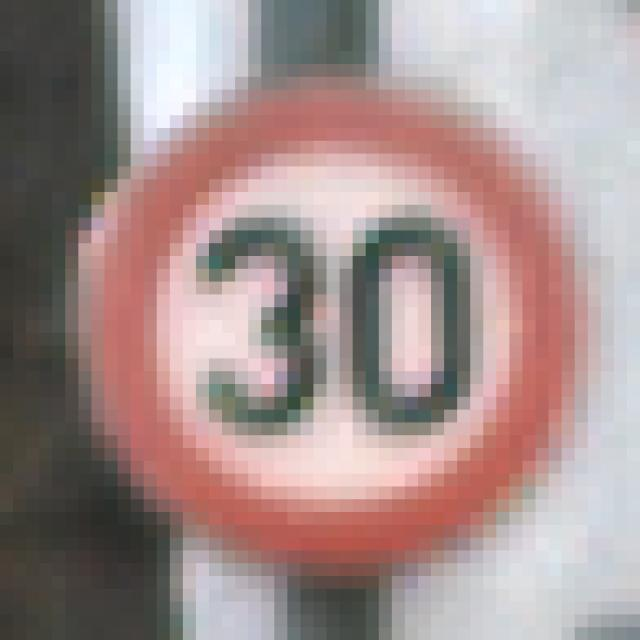Speed Limit -30-: (71, 58, 568, 556)
